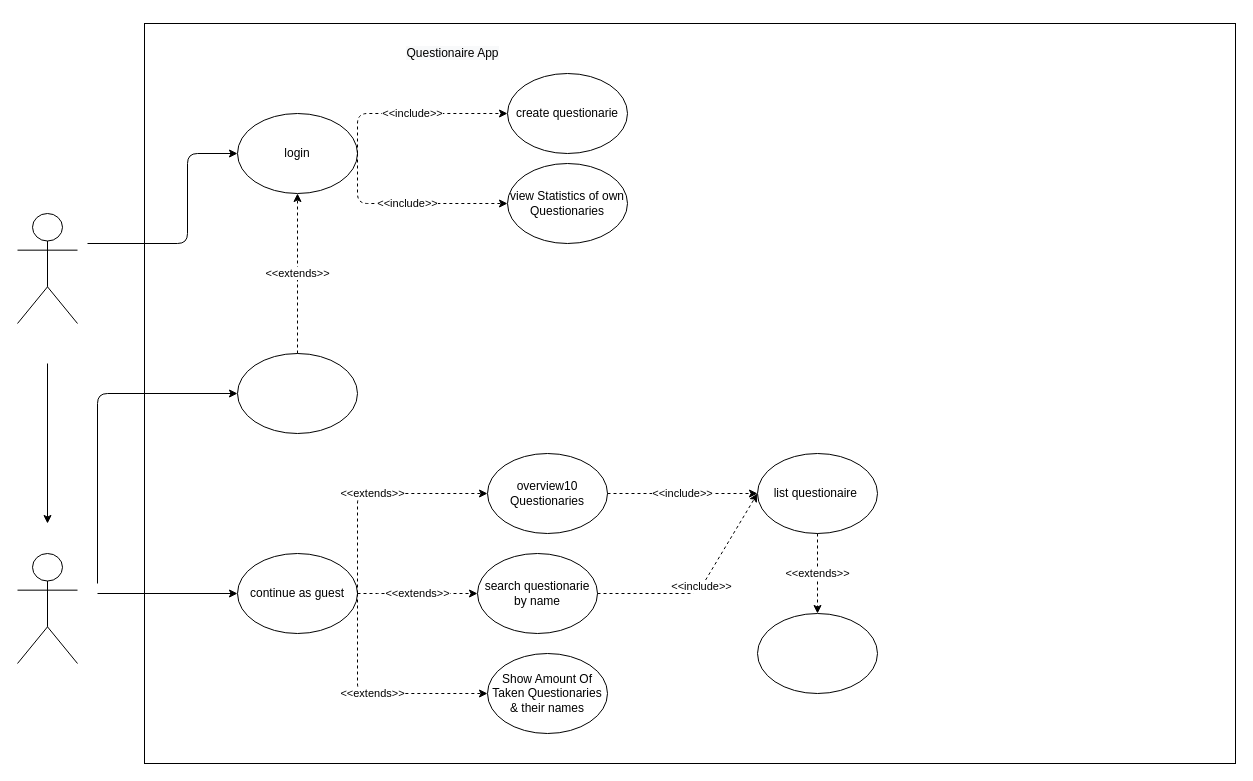
Image size: 1253x781. Some labels were removed from this diagram. Each missing label, with the centre of its shape:
"absolve questionarie" goes at (817,653).
"register" goes at (297,393).
"regUser" goes at (47,268).
"unregUser" goes at (47,608).
